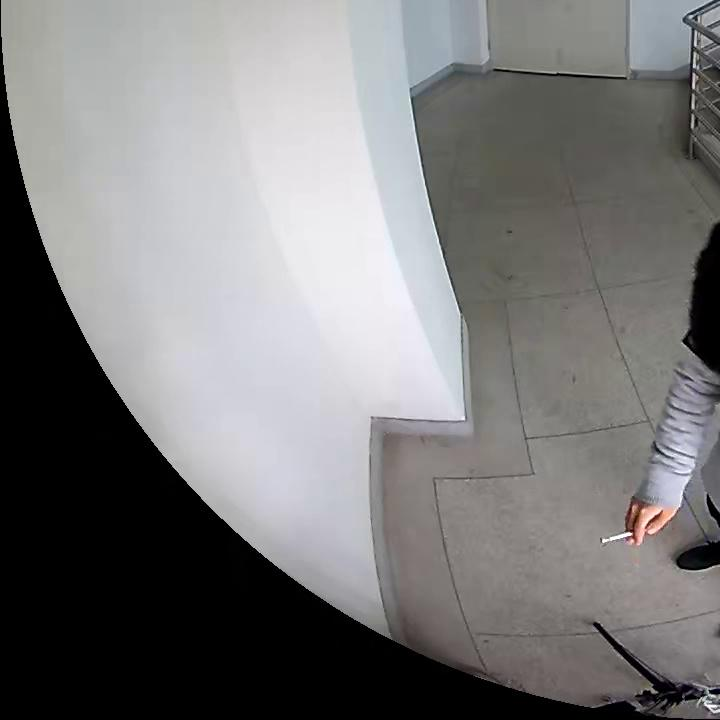handsmoke: (601, 495, 680, 548)
